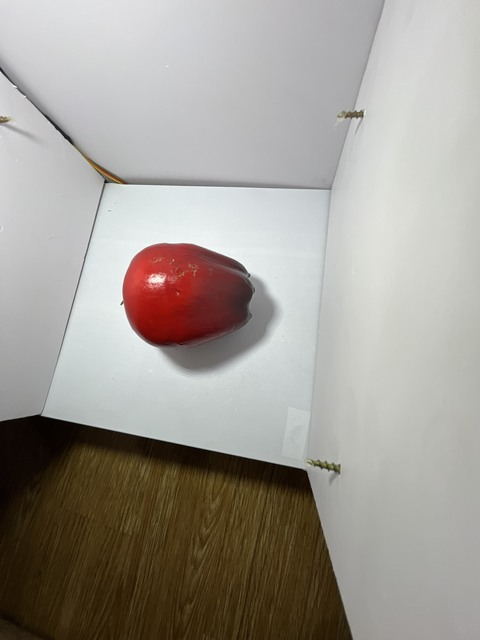Tao: (115, 240, 257, 352)
